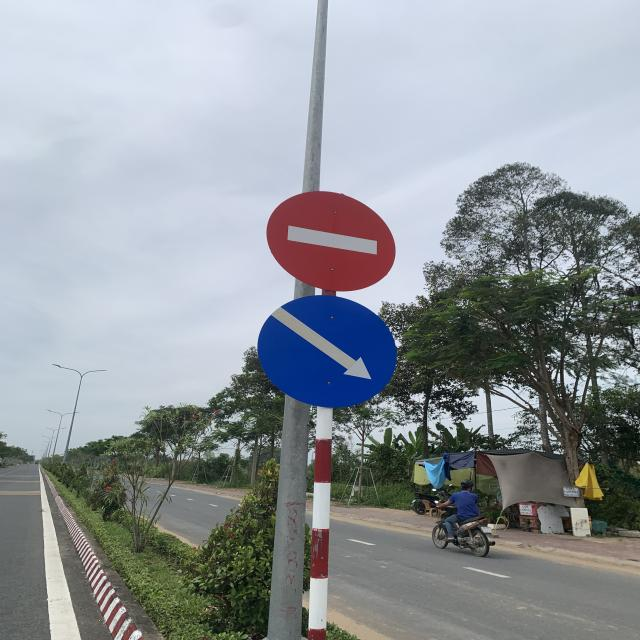Cam_Di_Nguoc_Chieu: (266, 191, 396, 292)
Chi_Huong_Di_Phai: (258, 294, 398, 408)
